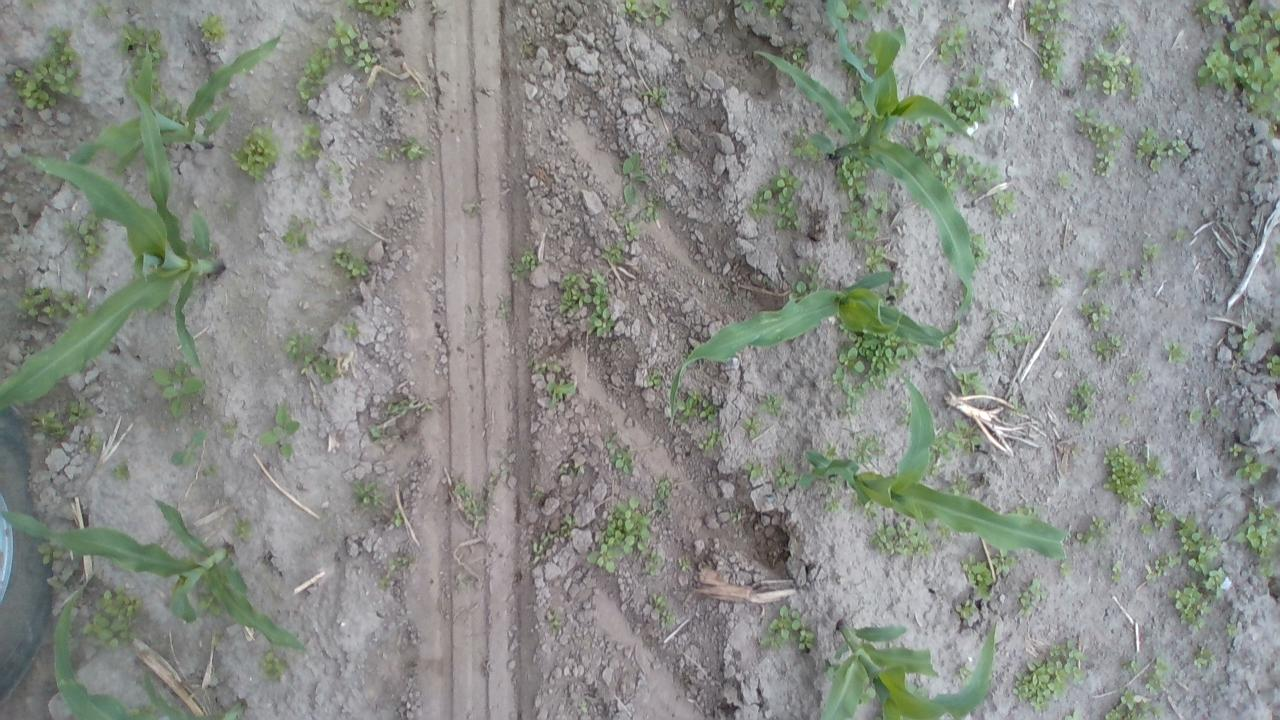Maize: (752, 0, 982, 310), (3, 90, 225, 411), (797, 373, 1069, 556), (2, 496, 308, 652), (669, 260, 972, 417), (73, 30, 284, 170), (52, 606, 247, 720), (818, 614, 996, 720)
Weeds: (1189, 1, 1280, 120), (294, 13, 378, 104), (6, 24, 84, 112), (911, 123, 1005, 183), (1010, 637, 1084, 712), (586, 498, 650, 572), (79, 584, 144, 650), (832, 343, 918, 391), (956, 550, 1012, 618), (1073, 105, 1125, 178), (950, 69, 1015, 126), (558, 270, 614, 336), (749, 165, 804, 232), (1102, 446, 1162, 506), (1080, 44, 1144, 100), (1229, 509, 1280, 578), (1172, 566, 1226, 631), (1030, 0, 1070, 83), (58, 209, 109, 272), (150, 360, 202, 420), (229, 121, 279, 180), (282, 329, 338, 381), (760, 604, 813, 656), (1178, 511, 1220, 572), (841, 208, 883, 268), (1135, 124, 1184, 174), (118, 26, 167, 75), (868, 522, 934, 556), (531, 513, 571, 569), (258, 404, 298, 456), (1102, 689, 1166, 720), (15, 282, 58, 324), (831, 158, 870, 200), (935, 22, 973, 64), (167, 429, 209, 467), (618, 152, 649, 203), (828, 0, 889, 24), (616, 0, 670, 27), (947, 361, 987, 394), (456, 483, 488, 524), (680, 390, 720, 422), (344, 0, 414, 18), (1016, 578, 1048, 616), (600, 434, 632, 472), (948, 416, 982, 450), (282, 213, 314, 249), (332, 246, 368, 278), (199, 12, 231, 48), (1066, 376, 1091, 421), (1078, 300, 1113, 331), (381, 138, 426, 162), (978, 306, 1001, 352), (791, 260, 820, 296), (28, 411, 64, 440), (260, 650, 292, 682), (854, 434, 886, 466), (297, 124, 325, 159), (1234, 454, 1266, 484), (1145, 553, 1179, 581), (1144, 657, 1170, 693), (508, 251, 538, 282), (54, 288, 86, 316), (378, 556, 406, 588), (1090, 333, 1120, 362), (34, 541, 66, 567), (547, 380, 574, 410), (637, 195, 663, 226), (1140, 506, 1170, 532), (64, 399, 94, 425), (838, 393, 871, 416), (771, 455, 794, 488), (1077, 515, 1105, 542), (230, 515, 256, 544), (970, 230, 991, 265), (991, 186, 1016, 214), (645, 594, 670, 622), (354, 478, 380, 504), (788, 130, 816, 154), (1106, 25, 1132, 49), (602, 243, 629, 265), (937, 433, 959, 460), (198, 594, 222, 618), (406, 397, 434, 417), (642, 550, 665, 574), (886, 282, 909, 306), (1165, 340, 1190, 362), (761, 394, 786, 416), (1037, 272, 1064, 292), (864, 194, 886, 218), (217, 200, 239, 224), (781, 46, 808, 65), (1009, 328, 1037, 346), (946, 470, 970, 491), (1194, 647, 1216, 669), (742, 458, 764, 480), (761, 0, 786, 19), (462, 197, 484, 218), (950, 663, 974, 682), (560, 463, 585, 481), (1124, 366, 1144, 388), (498, 294, 516, 318), (698, 428, 718, 449), (744, 418, 763, 440), (546, 610, 564, 633), (846, 95, 864, 117), (1168, 228, 1190, 246), (113, 459, 131, 481), (648, 369, 666, 391), (1140, 242, 1160, 261), (92, 1, 112, 20), (1244, 319, 1256, 350), (822, 494, 842, 512), (1117, 267, 1138, 284), (644, 88, 666, 104), (657, 476, 673, 498), (212, 627, 226, 652), (1085, 267, 1106, 283), (1271, 240, 1280, 277), (343, 318, 359, 338), (529, 360, 561, 370), (1006, 506, 1032, 518), (1267, 354, 1280, 378), (1112, 560, 1126, 582), (941, 336, 960, 352), (82, 433, 98, 452), (934, 525, 952, 541), (204, 461, 222, 477), (222, 420, 238, 438), (1053, 174, 1073, 188), (626, 220, 640, 240), (131, 703, 152, 716), (1121, 660, 1138, 676), (824, 662, 838, 681), (384, 402, 402, 416), (318, 180, 332, 198), (730, 508, 744, 526), (1188, 406, 1200, 426), (366, 422, 379, 440), (21, 0, 42, 11), (392, 509, 402, 532), (822, 442, 838, 456), (405, 82, 419, 98), (676, 555, 690, 571), (865, 508, 880, 522), (1063, 710, 1084, 720), (332, 162, 345, 178), (1056, 346, 1070, 360), (1118, 411, 1132, 424), (1060, 562, 1074, 575), (611, 208, 624, 221), (1232, 442, 1244, 456), (660, 158, 670, 173), (664, 140, 676, 152), (1209, 406, 1222, 417), (1226, 624, 1237, 635), (741, 0, 753, 10), (1270, 329, 1280, 341), (1126, 394, 1136, 402)
